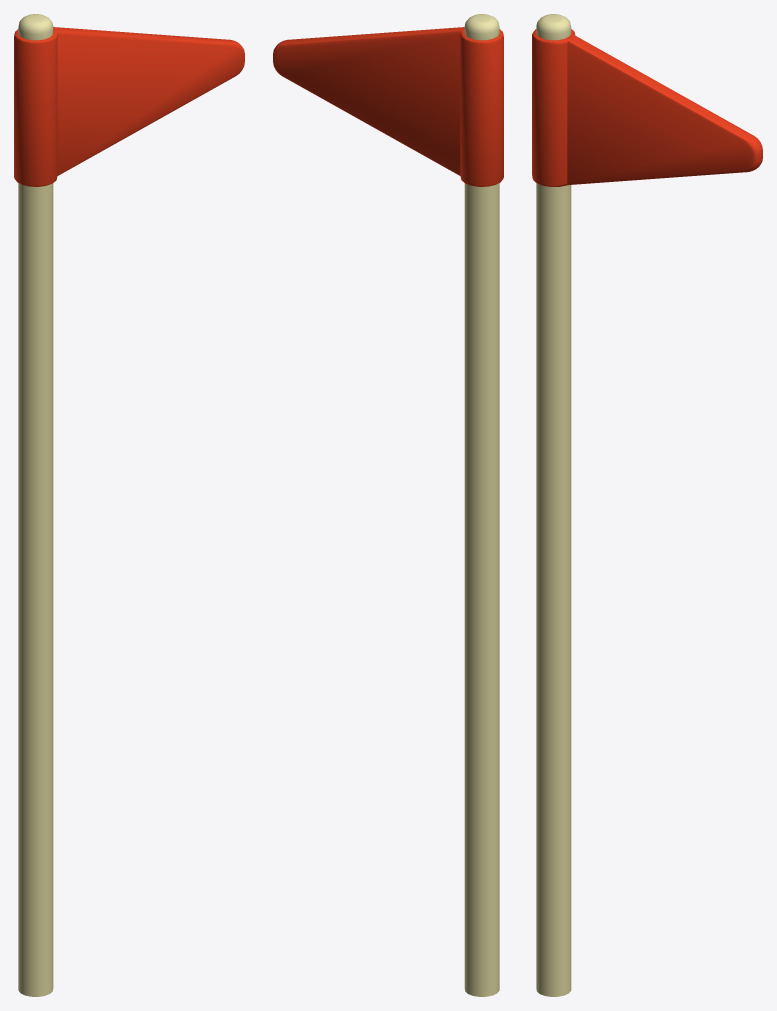
Rendered from flag.glb.
3 views of the same model, side by side, from view 1: azimuth 30°, elevation 25°; view 2: azimuth 150°, elevation 25°; view 3: azimuth 330°, elevation 25° (orthographic).
Visible parts, largest first — view 1: Cube.004; view 2: Cube.004; view 3: Cube.004.
Boxes of the visible parts, x1,y1,x2,y2 form: Cube.004: (14,14,244,996); Cube.004: (273,14,503,996); Cube.004: (532,14,762,996).
Size of the model in its own units: 0.3766 by 1.54 by 0.0633.
